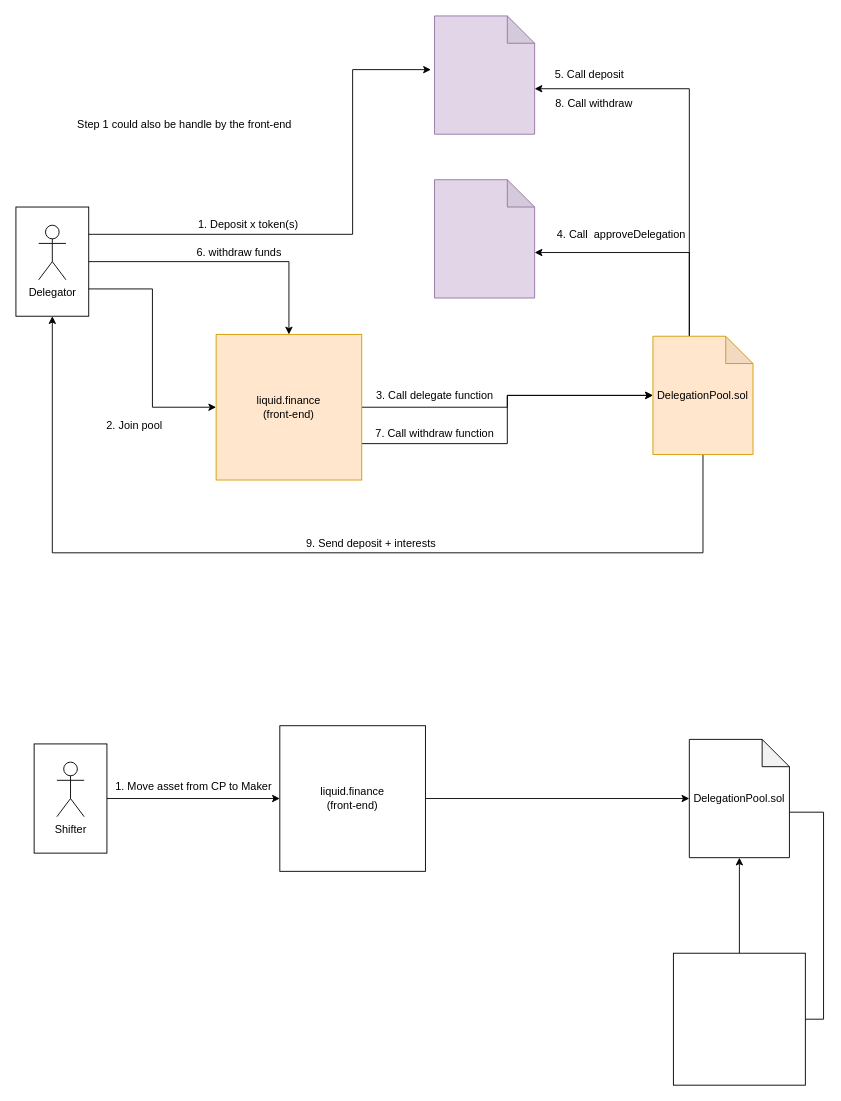
Image size: 841x1101. Some labels were removed from this diagram. The shapes that lost their labels are listed below. From the top down, each one's centre as x and y in pixels, then its label:
point (484, 74): AavePool.sol
point (484, 238): DebtToken.sol
